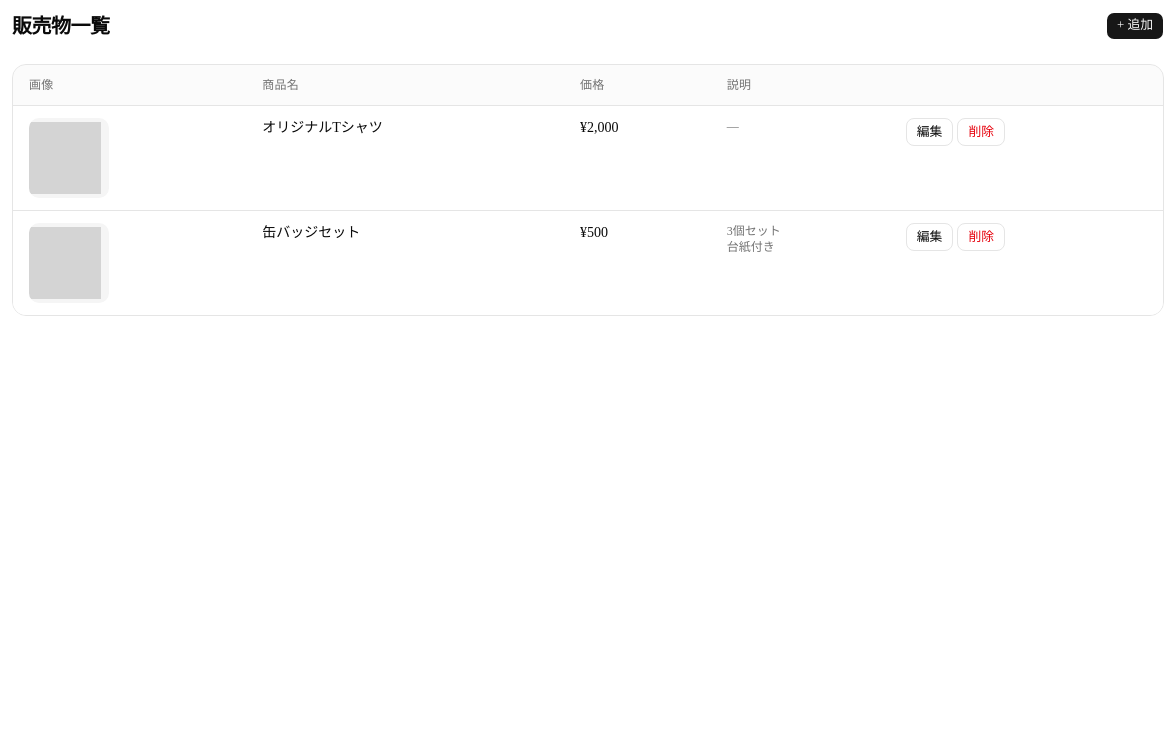
it: ShopItemAdminPanel › + 追加 ボタンクリックでフォームを表示する
Click the button "+ 追加".
click(1135, 26)  # box [1106, 12, 1164, 40]
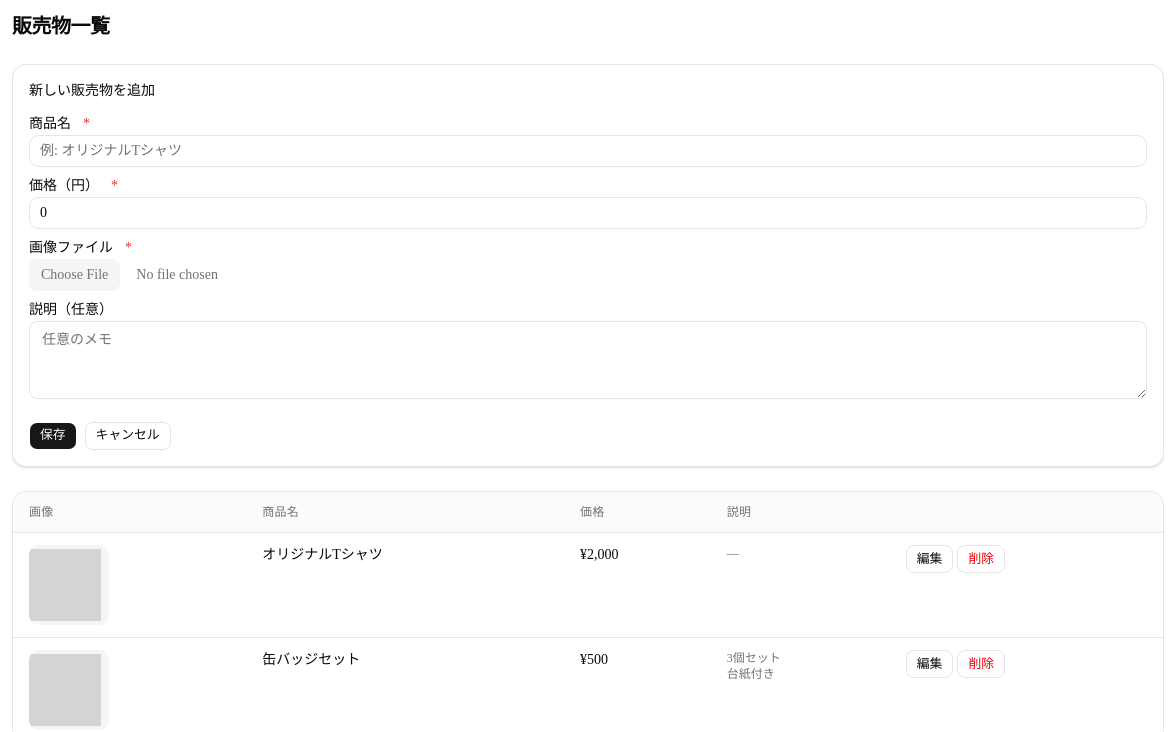
Now the heading "新しい販売物を追加" is shown, box [29, 83, 155, 98]
Now the field labelled "商品名 *" is shown, box [29, 135, 1147, 167]
